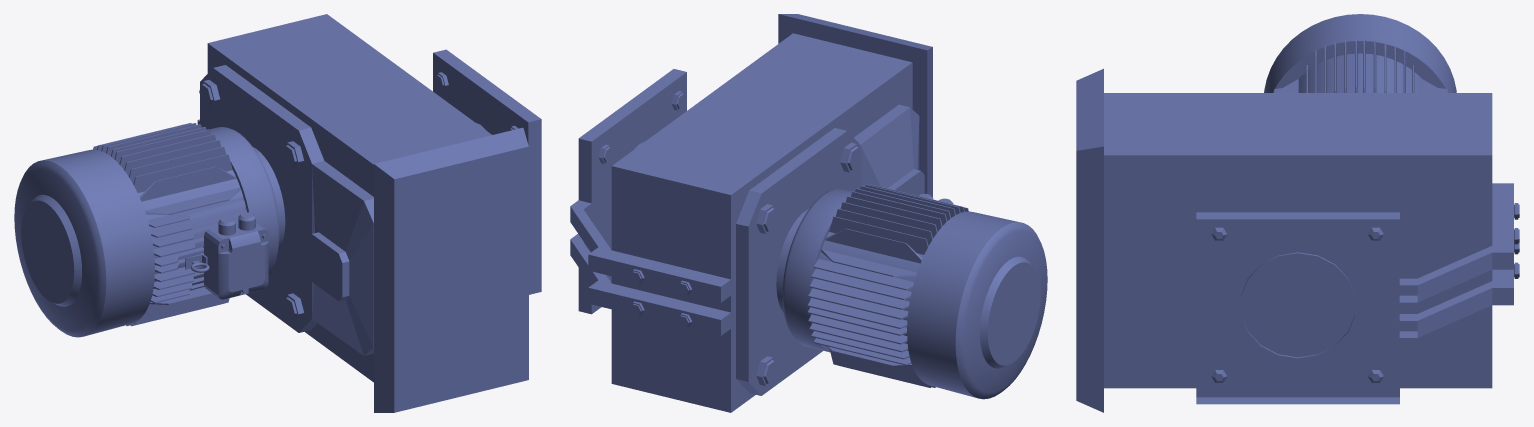
Rendered from Conveyor-Engine.fbx.
3 renders of one model, left to right at view 1: azimuth 30°, elevation 25°; view 2: azimuth 150°, elevation 25°; view 3: azimuth 270°, elevation 25°, orthographic. The views are drawn at different scales.
Parts seen in each view (by area): view 1: Conveyor-Engine; view 2: Conveyor-Engine; view 3: Conveyor-Engine.
Boxes of the visible parts, <box> form: Conveyor-Engine: <box>14,14,541,412</box>; Conveyor-Engine: <box>570,14,1047,412</box>; Conveyor-Engine: <box>1076,14,1519,412</box>.
Size of the model in its own units: 70.11 by 40 by 60.29.
